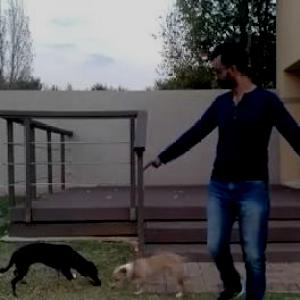land: (111, 8, 299, 299)
